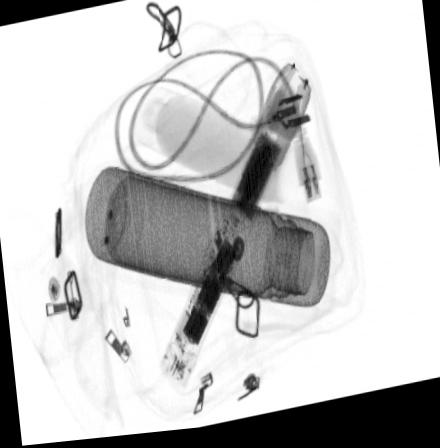Baton: (158, 67, 312, 396)
